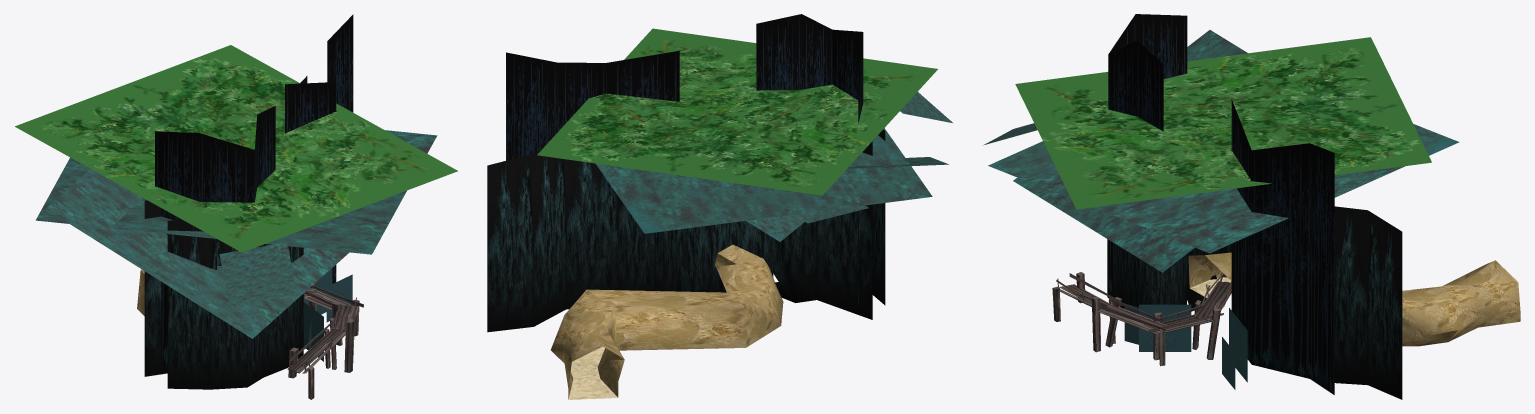
The model's file is tunnel_swamp_cave.fbx.
The picture shows the model from 3 angles, left to right: view 1: azimuth 30°, elevation 25°; view 2: azimuth 150°, elevation 25°; view 3: azimuth 270°, elevation 25°; orthographic projection. The views are drawn at different scales.
Parts seen in each view (by area): view 1: polySurface512, tunnel_wall2, swamp_cavetunnel_v3s1:polySurface520, tunnel_wall4, swamp_cavetunnel_v3s1:polySurface512, swamp_cavetunnel_v3s1:polySurface515, tunnel_wall1, pPlane151, TablePlank184, pPlane153, plank30, TablePlank94; view 2: polySurface512, tunnel_wall4, tunnel_wall2, tunnel_wall, swamp_cavetunnel_v3s1:polySurface512, tunnel_wall1, tunnel_floor, swamp_cavetunnel_v3s1:polySurface502, swamp_cavetunnel_v3s1:polySurface515, swamp_cavetunnel_v3s1:polySurface520, swamp_cavetunnel_v3s1:polySurface504; view 3: polySurface512, tunnel_wall2, tunnel_wall4, swamp_cavetunnel_v3s1:polySurface512, tunnel_wall, swamp_cavetunnel_v3s1:polySurface520, pPlane151, pPlane154, TablePlank154, TablePlank94, tunnel_wall1, pPlane153.
Boxes of the visible parts, bbox=[...] form: polySurface512: bbox=[15, 45, 457, 252]; tunnel_wall2: bbox=[155, 14, 353, 376]; swamp_cavetunnel_v3s1:polySurface520: bbox=[46, 169, 349, 338]; tunnel_wall4: bbox=[167, 76, 307, 389]; swamp_cavetunnel_v3s1:polySurface512: bbox=[35, 130, 437, 254]; swamp_cavetunnel_v3s1:polySurface515: bbox=[219, 242, 296, 306]; tunnel_wall1: bbox=[144, 200, 167, 376]; pPlane151: bbox=[303, 302, 323, 361]; TablePlank184: bbox=[287, 329, 344, 373]; pPlane153: bbox=[326, 274, 352, 322]; plank30: bbox=[344, 319, 354, 372]; TablePlank94: bbox=[332, 305, 358, 331]; polySurface512: bbox=[537, 28, 937, 195]; tunnel_wall4: bbox=[487, 129, 885, 332]; tunnel_wall2: bbox=[506, 14, 863, 307]; tunnel_wall: bbox=[551, 244, 783, 399]; swamp_cavetunnel_v3s1:polySurface512: bbox=[596, 128, 932, 233]; tunnel_wall1: bbox=[671, 141, 872, 319]; tunnel_floor: bbox=[568, 346, 617, 399]; swamp_cavetunnel_v3s1:polySurface502: bbox=[746, 211, 816, 241]; swamp_cavetunnel_v3s1:polySurface515: bbox=[900, 92, 952, 122]; swamp_cavetunnel_v3s1:polySurface520: bbox=[847, 157, 948, 168]; swamp_cavetunnel_v3s1:polySurface504: bbox=[805, 205, 868, 223]; polySurface512: bbox=[1015, 37, 1431, 209]; tunnel_wall2: bbox=[1108, 14, 1334, 394]; tunnel_wall4: bbox=[1107, 206, 1402, 399]; swamp_cavetunnel_v3s1:polySurface512: bbox=[988, 124, 1459, 253]; tunnel_wall: bbox=[1188, 252, 1520, 346]; swamp_cavetunnel_v3s1:polySurface520: bbox=[1013, 30, 1247, 272]; pPlane151: bbox=[1139, 304, 1191, 351]; pPlane154: bbox=[1229, 308, 1247, 382]; TablePlank154: bbox=[1194, 281, 1230, 321]; TablePlank94: bbox=[1098, 304, 1167, 334]; tunnel_wall1: bbox=[1187, 244, 1231, 308]; pPlane153: bbox=[1222, 337, 1235, 389].
Size of the model in its own units: 28099 by 18106 by 31840.
4 materials, 4 textured.
